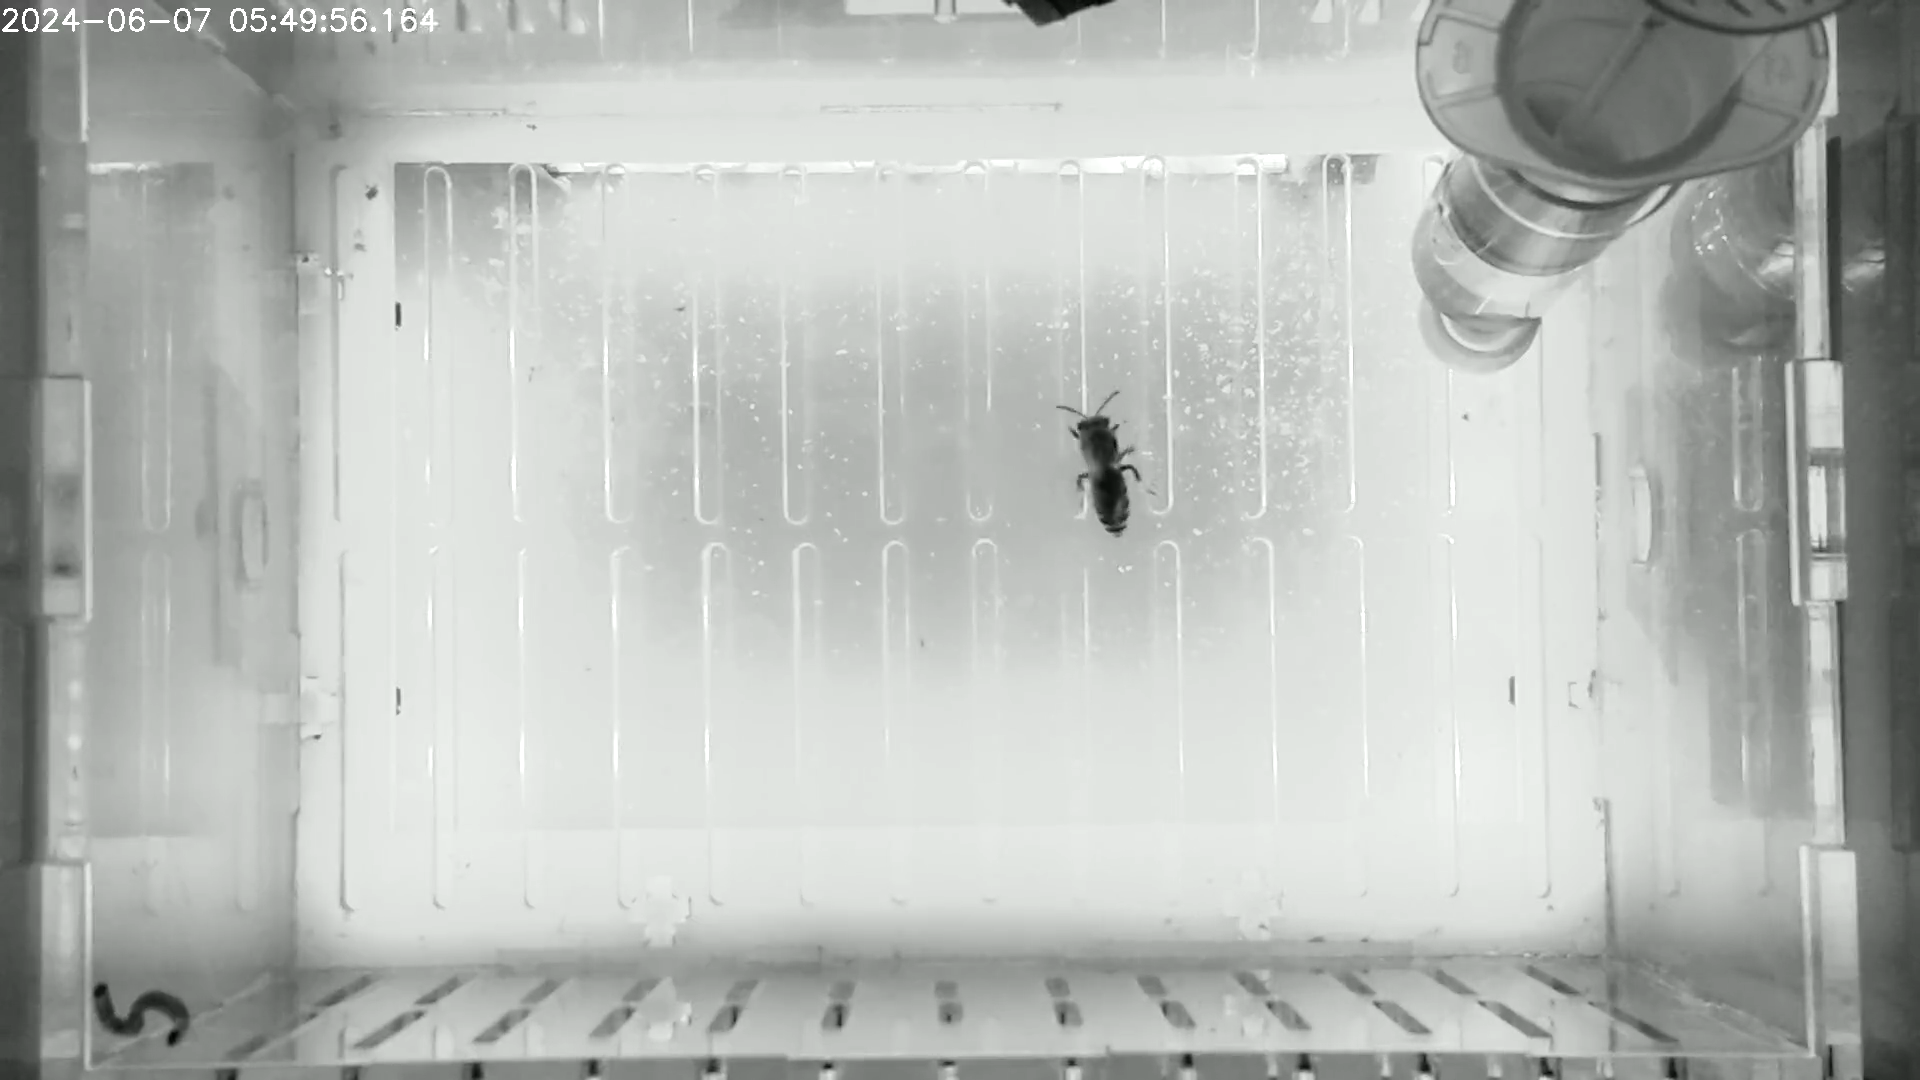bee: (1048, 385, 1167, 545)
feeder: (1407, 141, 1636, 334)
